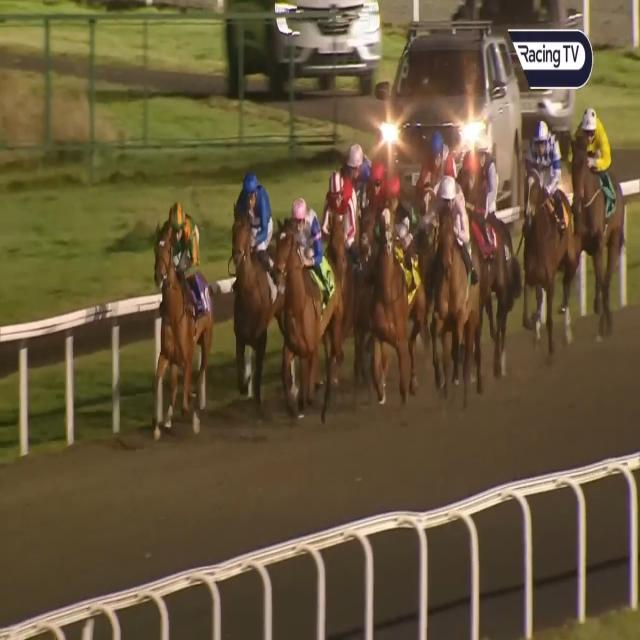horses-racing: (274, 191, 340, 407), (148, 195, 214, 410), (569, 109, 627, 296), (228, 168, 284, 358), (523, 122, 572, 319), (381, 174, 428, 376), (427, 172, 471, 368), (320, 168, 360, 344), (456, 148, 500, 290), (358, 163, 389, 251), (474, 137, 506, 220), (418, 129, 450, 194), (339, 138, 370, 198)
